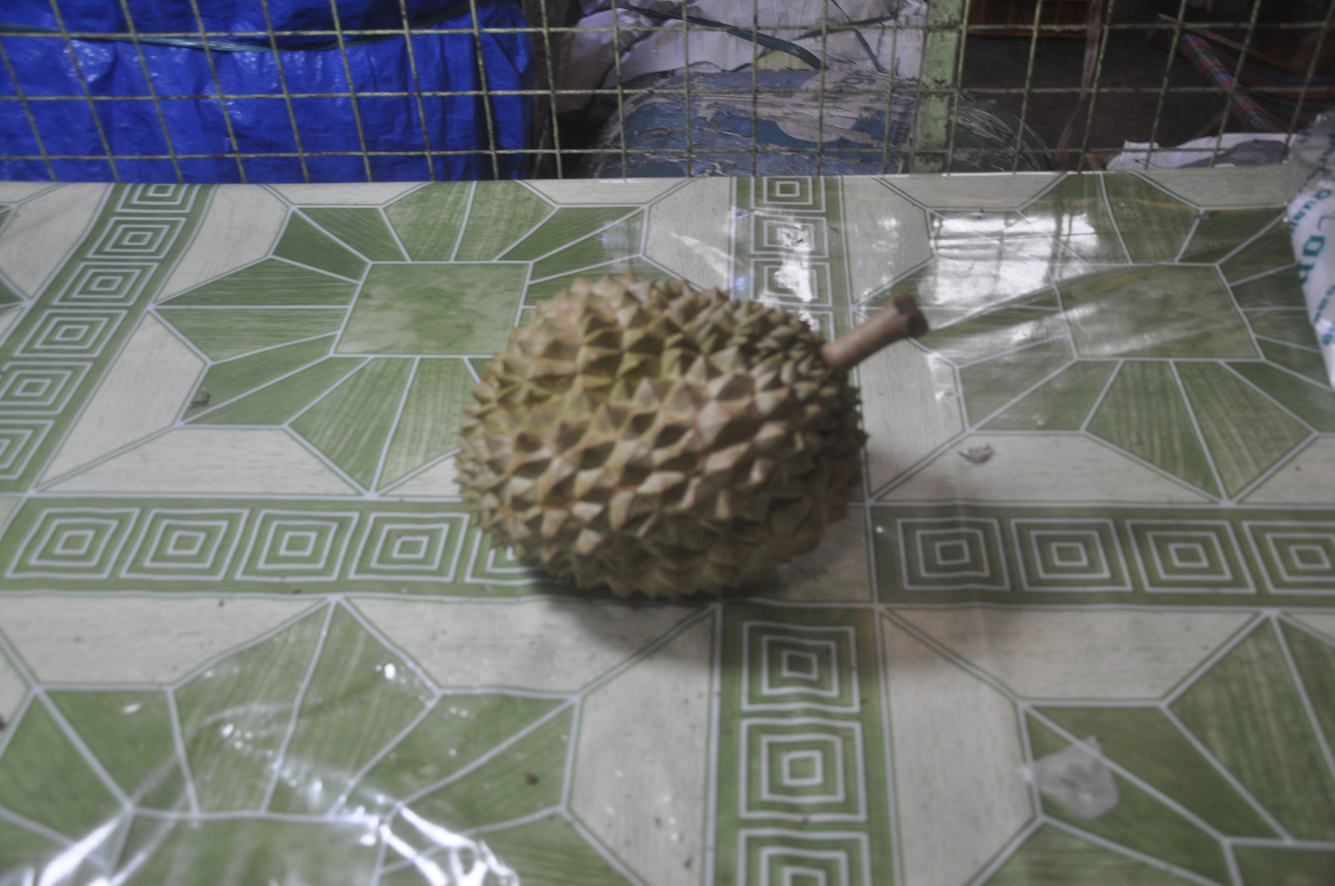mature: (445, 255, 941, 622)
